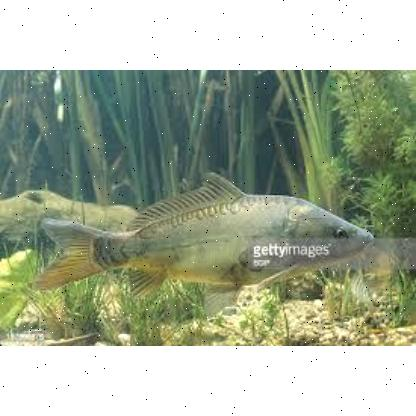ikan-mas: (35, 173, 373, 295)
